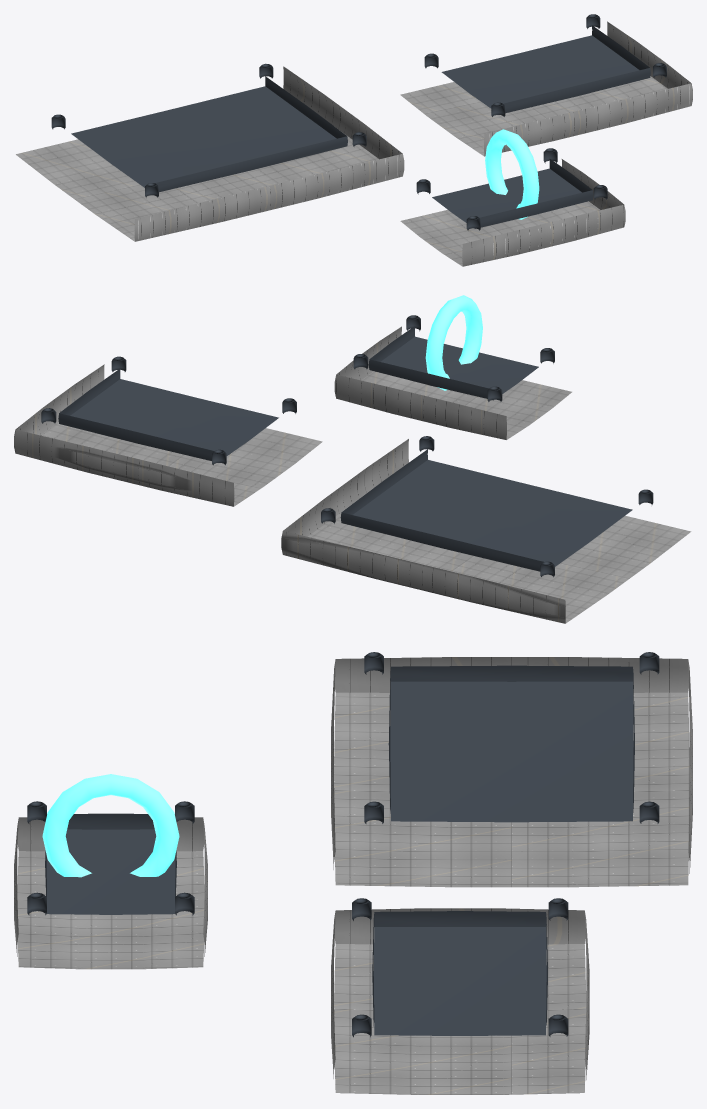
The model's file is greeble_hatches.glb.
3 views of the same model, one above another, from view 1: azimuth 30°, elevation 25°; view 2: azimuth 150°, elevation 25°; view 3: azimuth 270°, elevation 25° (orthographic). The views are drawn at different scales.
Visible parts, largest first — view 1: greeble_hatches_Material_Hull_Merged, greeble_hatches_Material_Mechanical_Merged, Hatch_Handle; view 2: greeble_hatches_Material_Hull_Merged, greeble_hatches_Material_Mechanical_Merged, Hatch_Handle; view 3: greeble_hatches_Material_Hull_Merged, greeble_hatches_Material_Mechanical_Merged, Hatch_Handle.
Part boxes in pixels (x1,y1,x2,y2): greeble_hatches_Material_Hull_Merged: (16,21,692,266); greeble_hatches_Material_Mechanical_Merged: (51,14,666,230); Hatch_Handle: (485,129,539,219); greeble_hatches_Material_Hull_Merged: (14,326,691,623); greeble_hatches_Material_Mechanical_Merged: (41,315,653,577); Hatch_Handle: (425,295,482,390); greeble_hatches_Material_Hull_Merged: (14,657,692,1094); greeble_hatches_Material_Mechanical_Merged: (27,652,659,1037); Hatch_Handle: (42,774,179,877).
Bounding box in the file's own units: 3.7 × 0.595 × 2.62.
3 materials, 1 textured.
